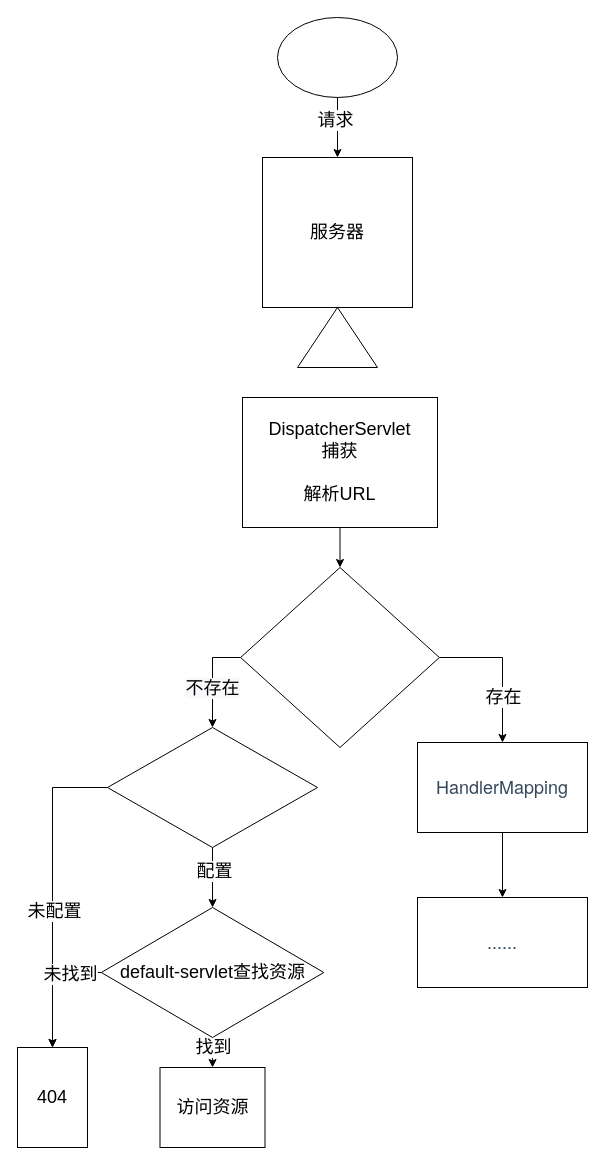
Image size: 605x1165. Some labels were removed from this diagram. Here are the shapes that lost their labels. From the top down, the box of each, then its label:
(276, 16, 398, 98): 用户
(240, 566, 439, 748): 判断URI对应的映射
(106, 726, 318, 848): 是否存配置 mvc:default-servlet-handler
